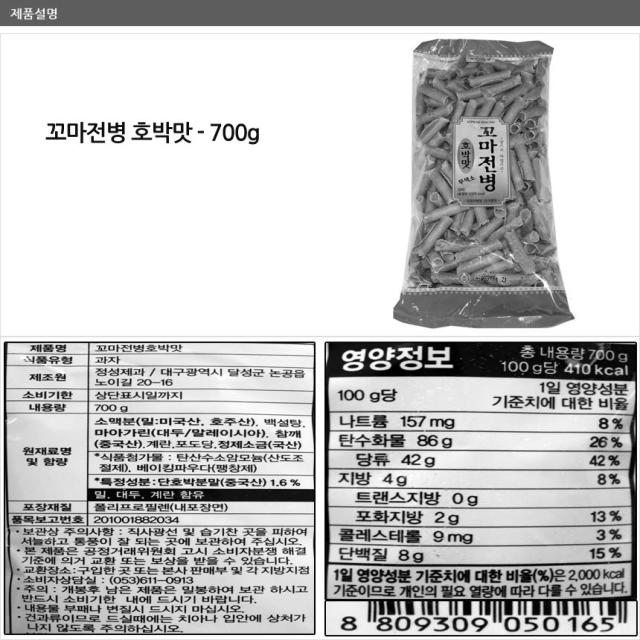Nutrition Label: (322, 335, 640, 605)
